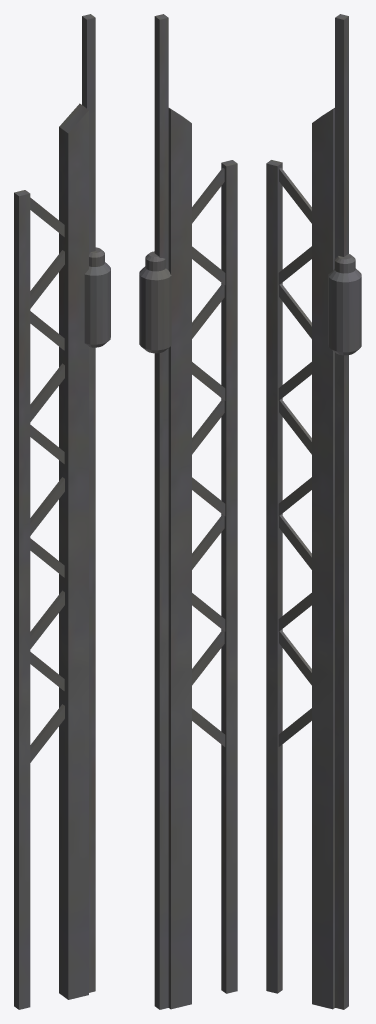
The model's file is Demo_guanjia.FBX.
3 renders of one model, left to right at view 1: azimuth 30°, elevation 25°; view 2: azimuth 210°, elevation 25°; view 3: azimuth 330°, elevation 25°, orthographic.
Parts seen in each view (by area): view 1: Demo_guanjia; view 2: Demo_guanjia; view 3: Demo_guanjia.
Part boxes in pixels (x1,y1,x2,y2): Demo_guanjia: (14, 14, 110, 1009); Demo_guanjia: (139, 14, 237, 1009); Demo_guanjia: (266, 14, 361, 1009).
Size of the model in its own units: 4.43 by 45.36 by 1.4.
